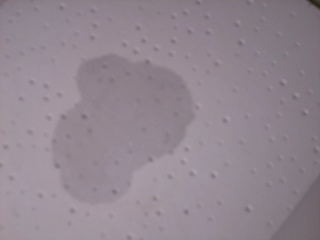Water_detected: (61, 78, 172, 179)
